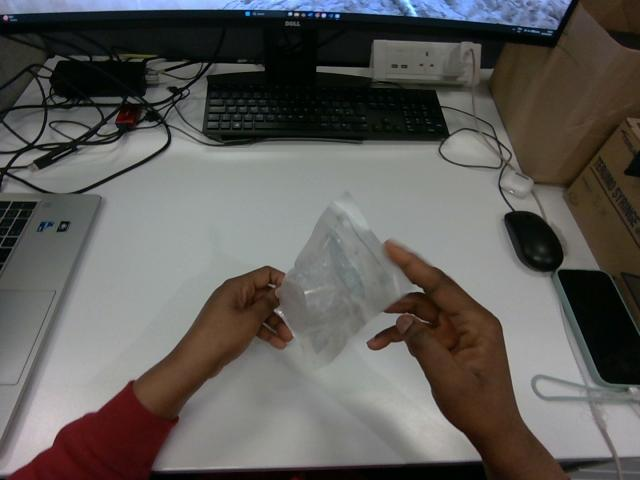gallipot: (280, 193, 410, 366)
